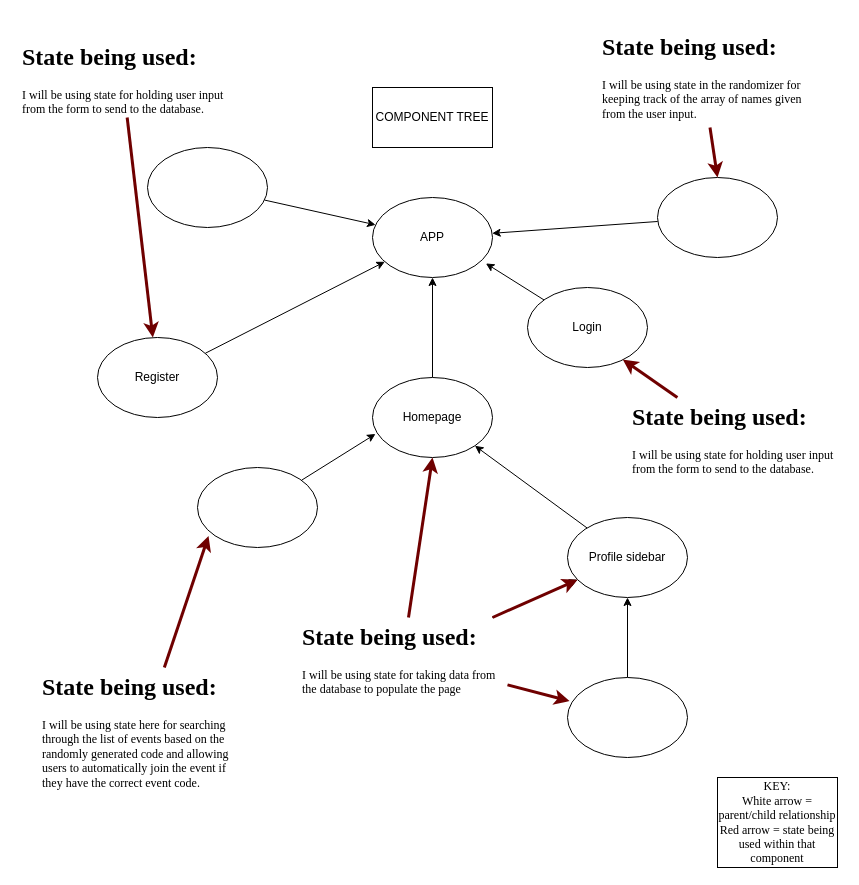
The diagram is 859 pixels wide and 885 high, and some of its shapes have lost their labels. Each missing label, with the box of its shape:
Gift Page: (566, 676, 688, 758)
Hosted Events Page: (196, 466, 318, 548)
Navbar/Header: (146, 146, 268, 228)
Randomizer: (656, 176, 778, 258)
